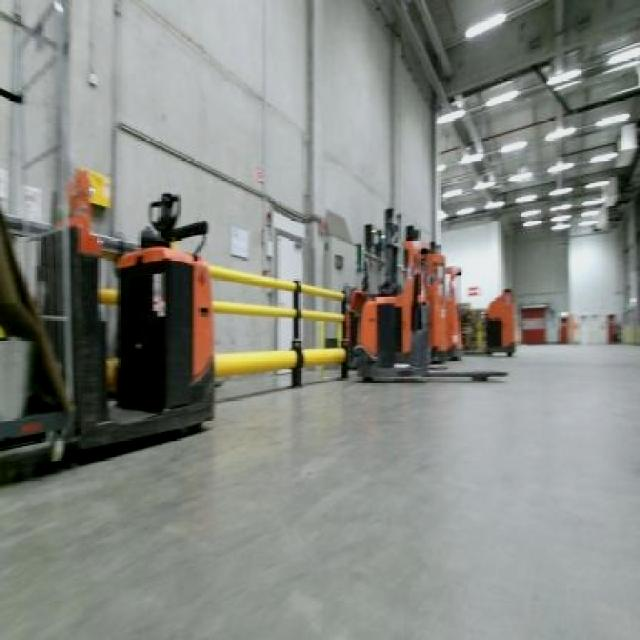floor: (0, 345, 637, 637)
